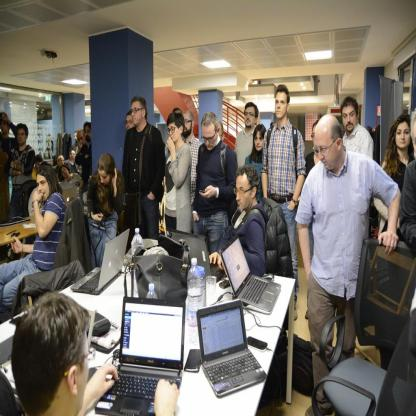board: (95, 295, 186, 416), (192, 304, 274, 396), (220, 234, 282, 317), (70, 228, 131, 294), (166, 228, 225, 283), (187, 256, 203, 348), (132, 227, 143, 295), (63, 188, 78, 205), (146, 282, 158, 298)
